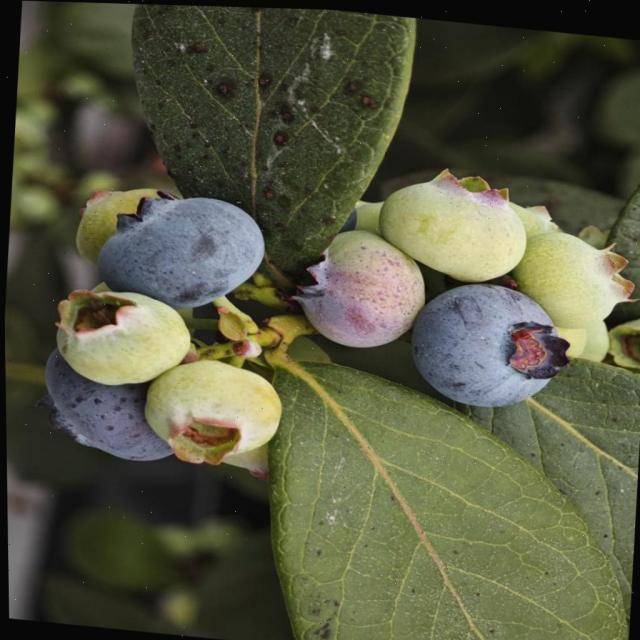RipeBlueBerry: (406, 272, 574, 412), (92, 184, 272, 313), (32, 348, 179, 464)
Semi-RipeBlueBerry: (297, 220, 431, 352)
UnripeBlueBerry: (370, 160, 532, 282), (134, 349, 285, 469), (50, 281, 198, 394), (506, 223, 630, 333)
